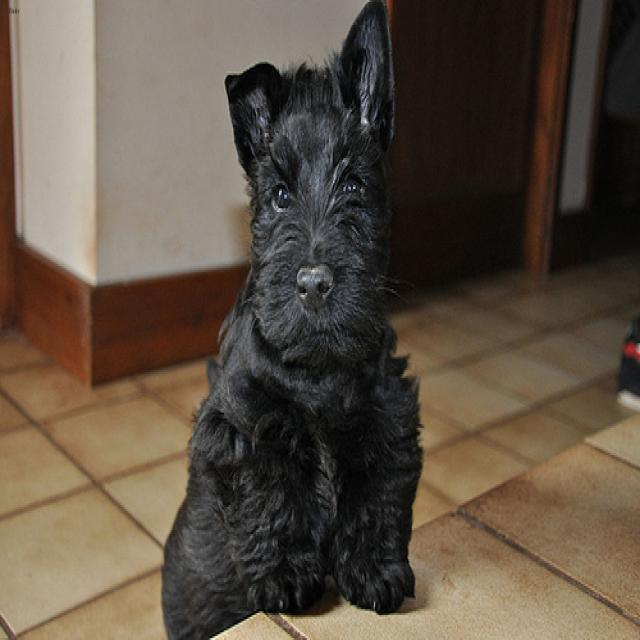dog-scottish_terrier: (151, 2, 433, 636)
